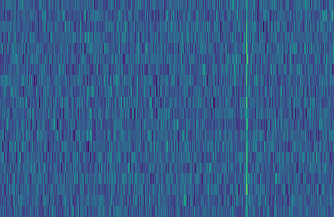signal: (243, 0, 252, 217)
